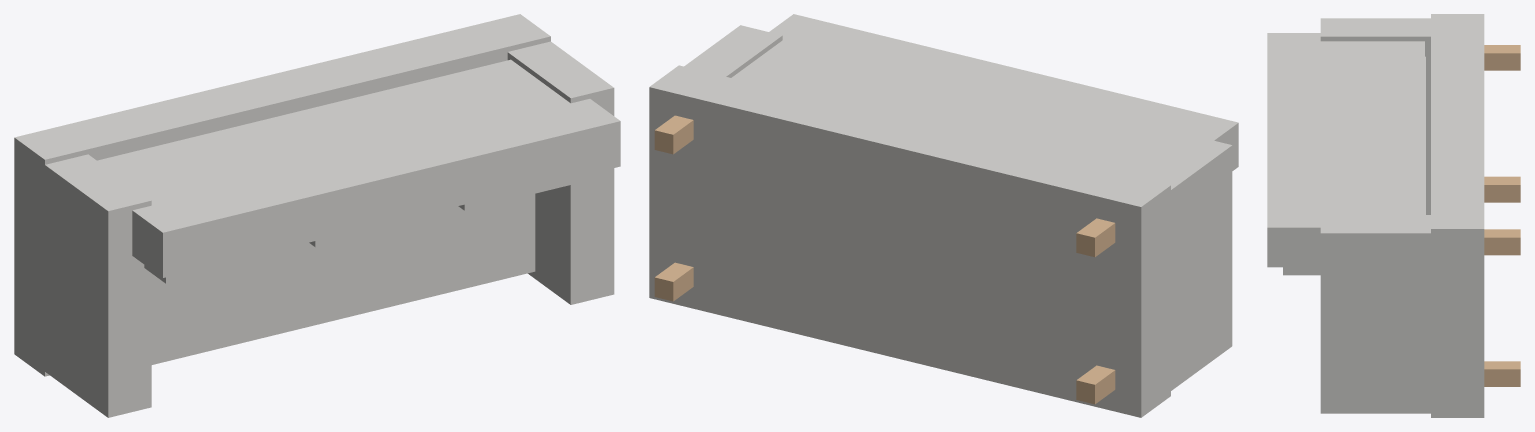
The model's file is sofa_3seat.glb.
3 renders of one model, left to right at view 1: azimuth 30°, elevation 25°; view 2: azimuth 150°, elevation 25°; view 3: azimuth 270°, elevation 25°, orthographic. The views are drawn at different scales.
Parts seen in each view (by area): view 1: world; view 2: world; view 3: world.
Part boxes in pixels (<box>): world: <box>14,14,620,417</box>; world: <box>649,14,1238,417</box>; world: <box>1267,14,1520,417</box>.
Size of the model in its own units: 2.1 by 0.86 by 1.04.
